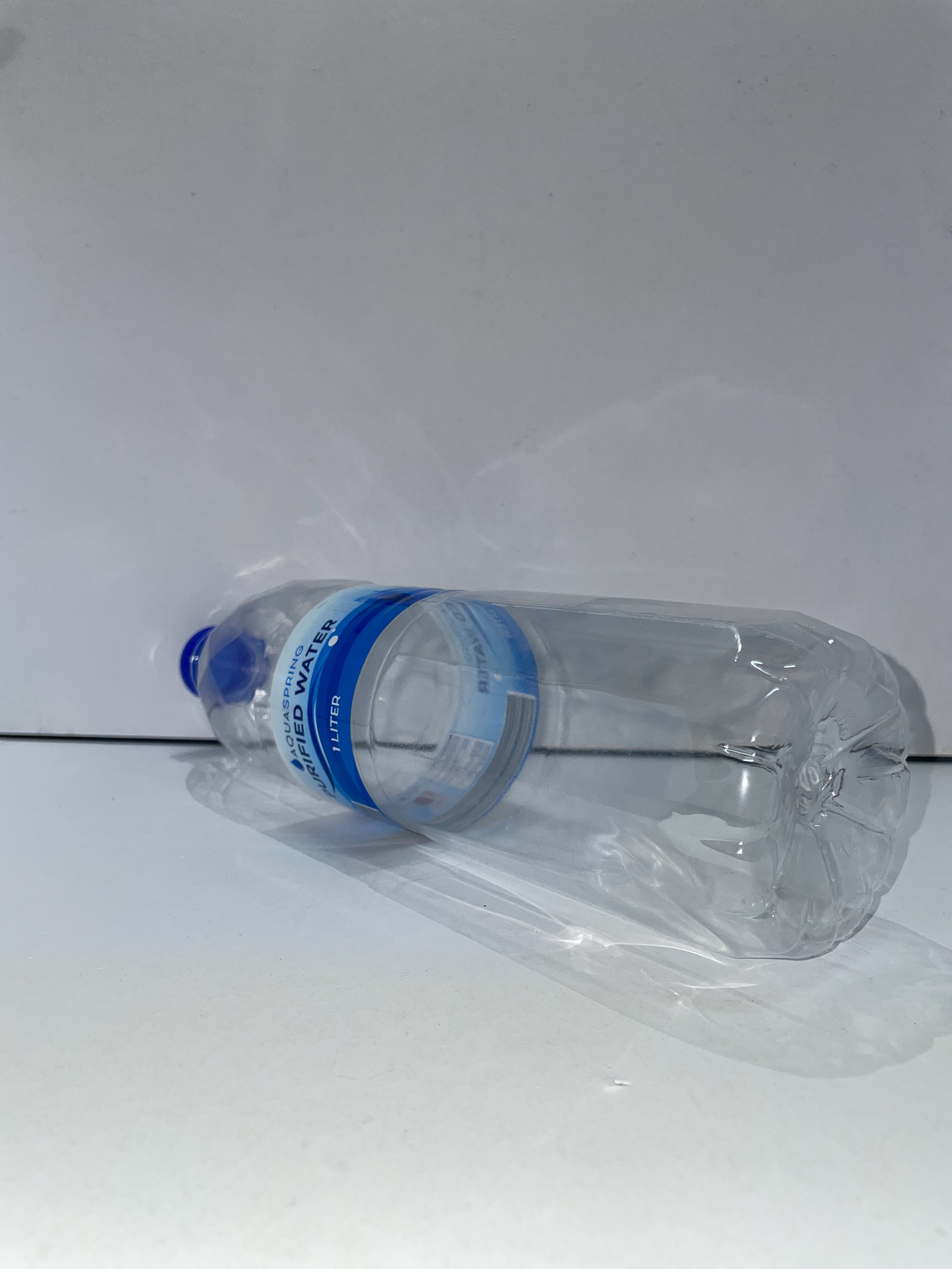aquaspring 1000ml: (180, 581, 907, 959)
